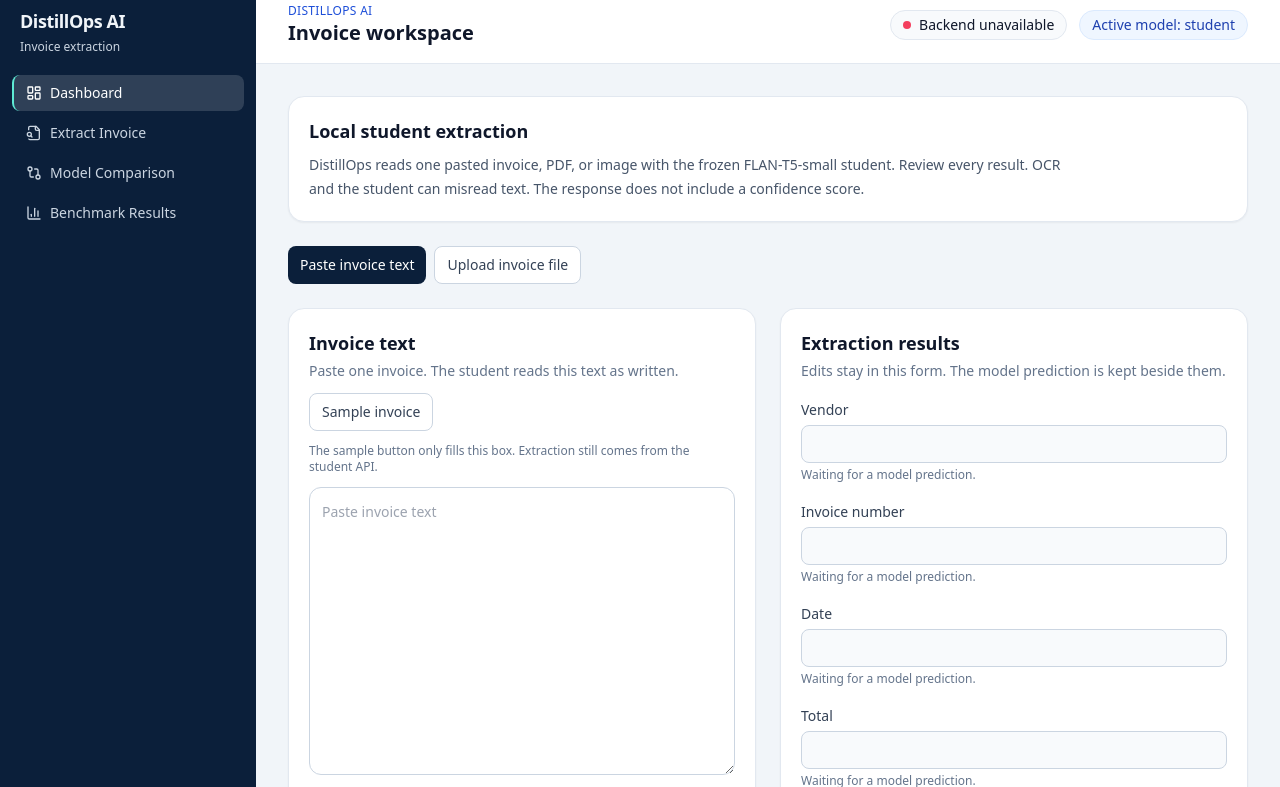
DistillOps workspace › shows backend unavailable when the network fails
Expected: the text "Backend unavailable" is shown, [919,15,1054,35]
In the text box labelled "invoice text": (522, 631) [309,487,735,775], type "INVOICE"
(page scrolled)
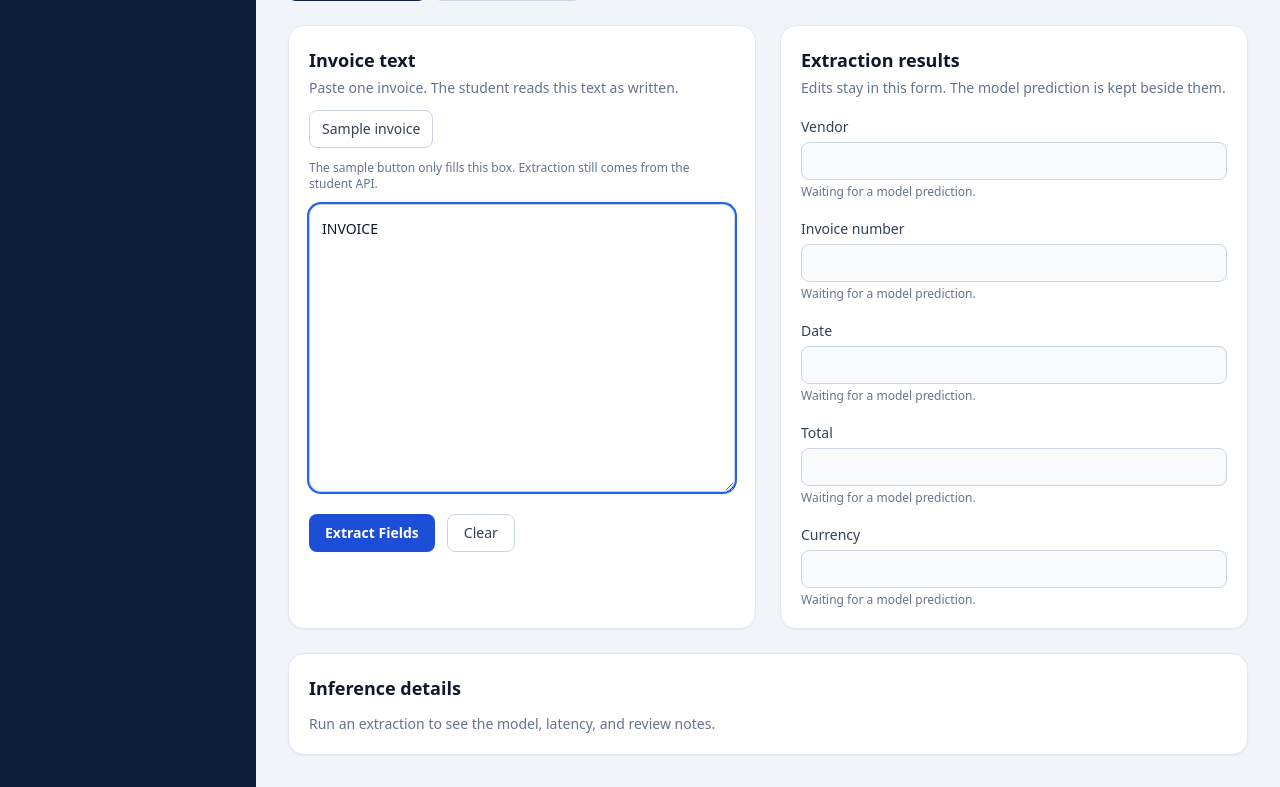
Click the button "Extract Fields": (372, 533) [309,514,435,552]
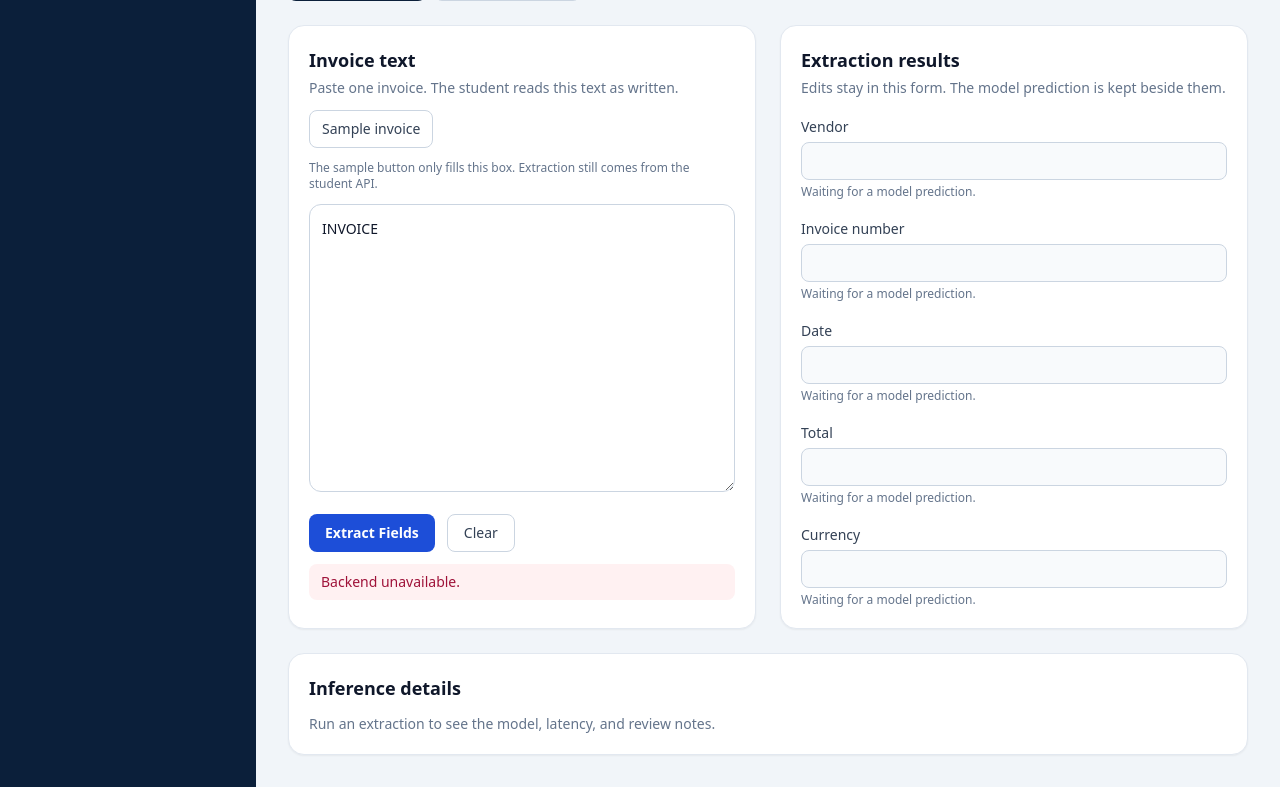
Expected: the message reads "Backend unavailable.", [321,572,460,591]
